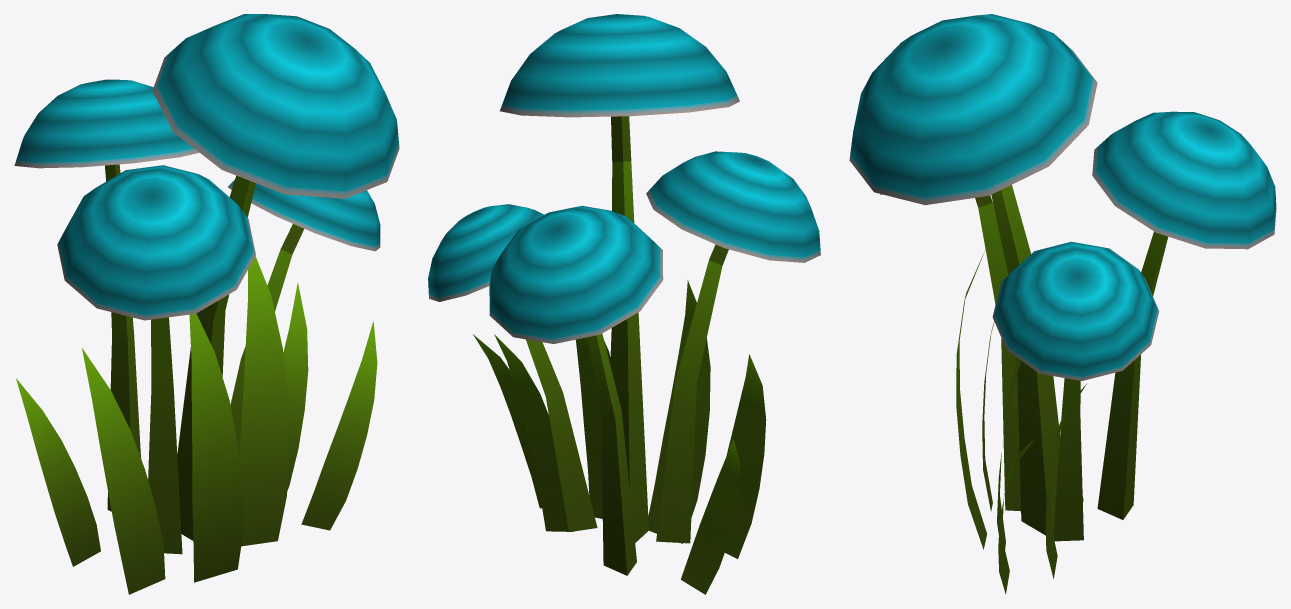
The model's file is Mesh_Flower05.fbx.
The picture shows the model from 3 angles, left to right: view 1: azimuth 30°, elevation 25°; view 2: azimuth 150°, elevation 25°; view 3: azimuth 270°, elevation 25°; orthographic projection. The views are drawn at different scales.
Visible parts, largest first — view 1: Mesh_Flower05; view 2: Mesh_Flower05; view 3: Mesh_Flower05.
Part boxes in pixels (x1,y1,x2,y2): Mesh_Flower05: (14,14,399,594); Mesh_Flower05: (428,14,820,594); Mesh_Flower05: (849,14,1276,594).
Size of the model in its own units: 0.4805 by 0.7127 by 0.508.
